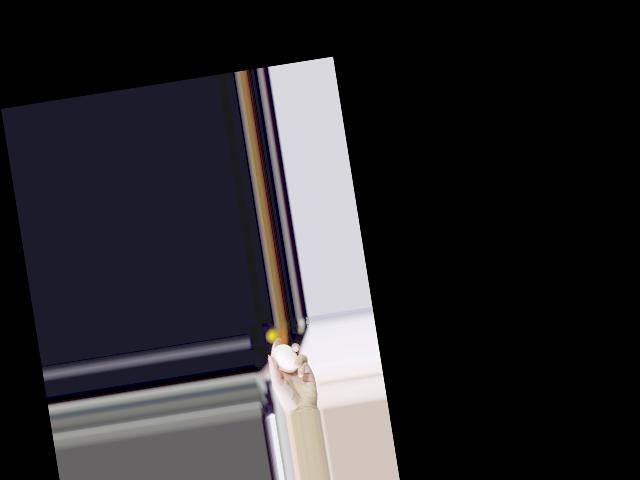egg: (271, 341, 299, 374)
